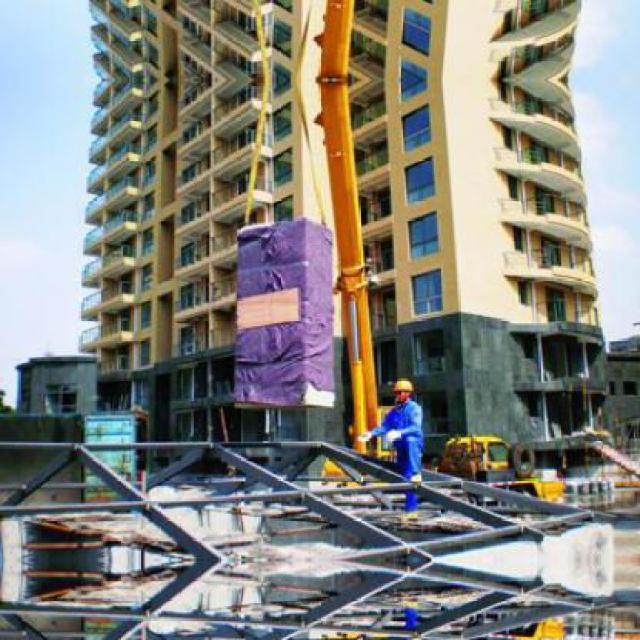helmet: (388, 374, 415, 404)
